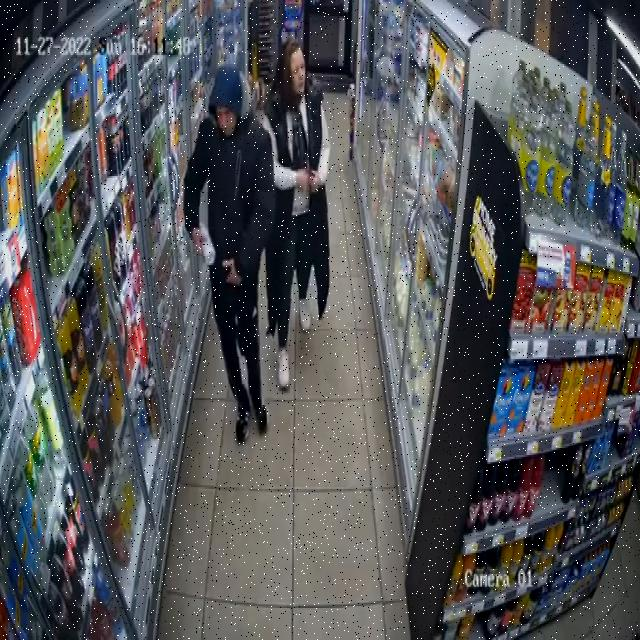article: (201, 226, 215, 263)
hands: (222, 260, 241, 281), (296, 171, 309, 190), (308, 172, 321, 190)
person: (184, 66, 275, 443), (263, 41, 329, 388)
